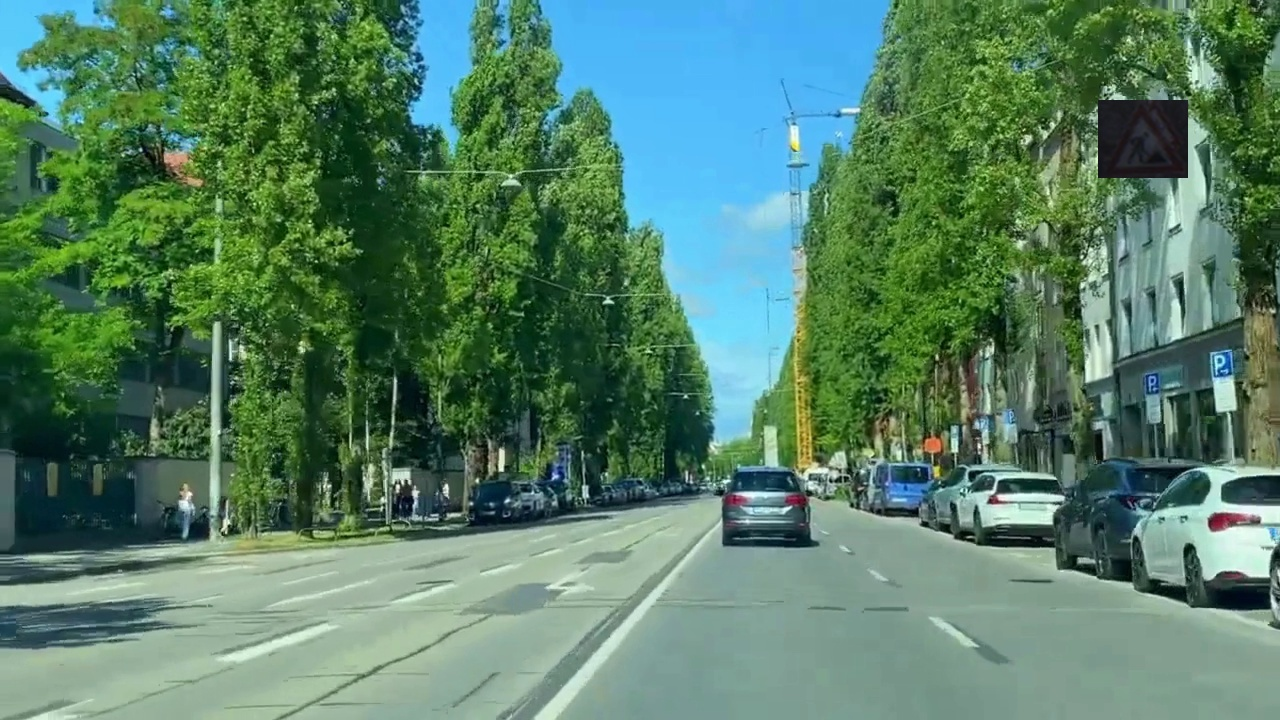Road work: (1098, 100, 1188, 178)
